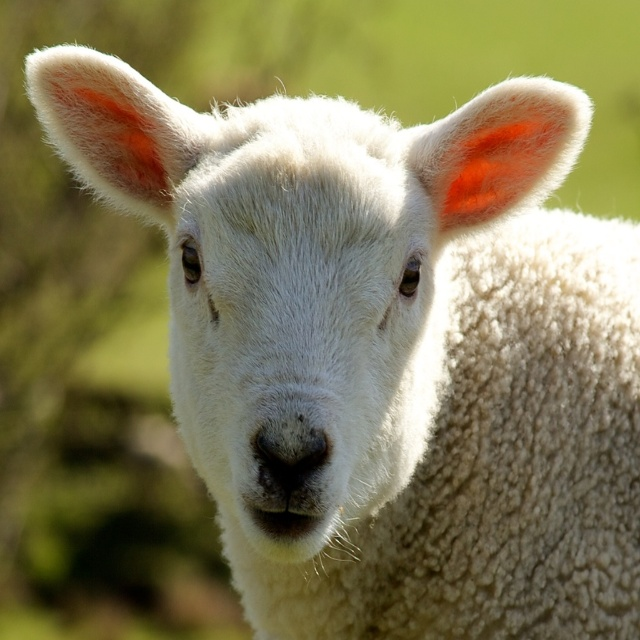Sheep: (20, 41, 640, 639)
